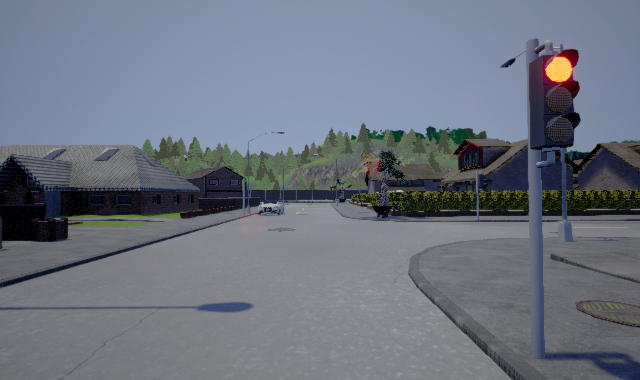traffic_light: (529, 48, 581, 148)
vehicle: (258, 200, 284, 215)
